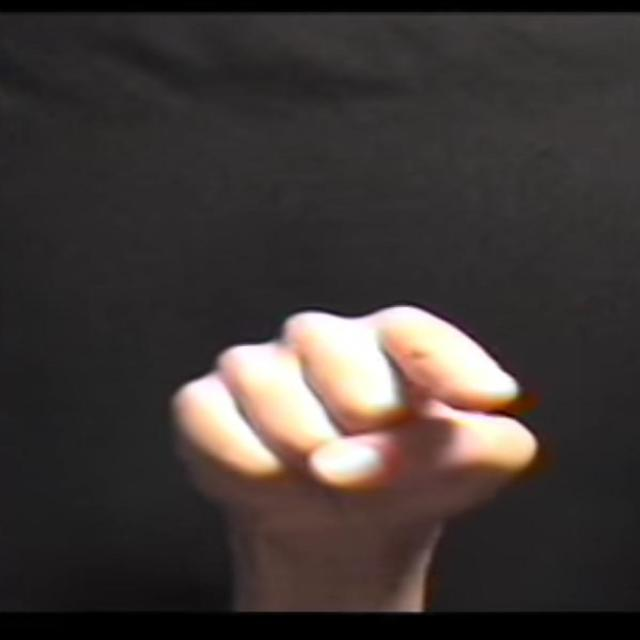Z: (157, 298, 547, 524)
